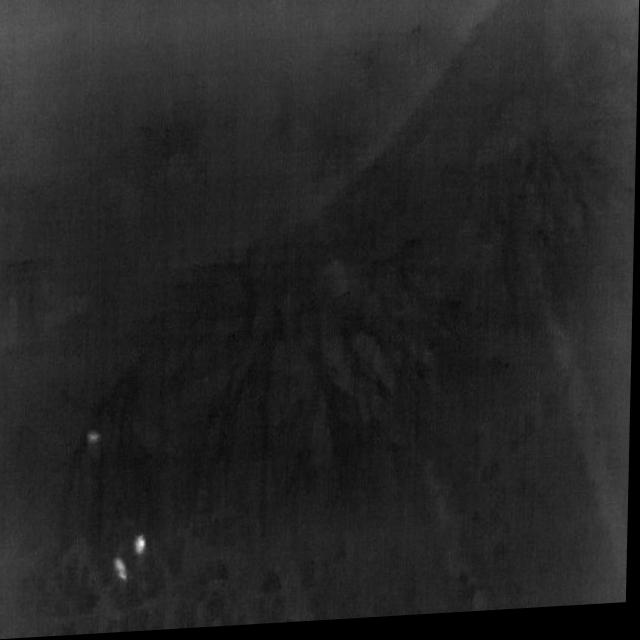deer: (116, 558, 131, 583), (136, 535, 149, 557), (89, 430, 105, 443)
